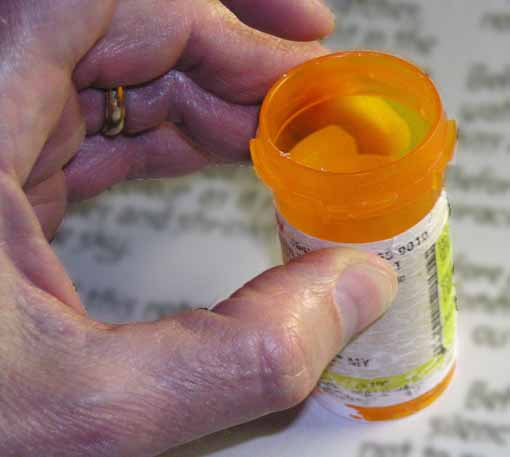pill bottle: (254, 48, 461, 420)
